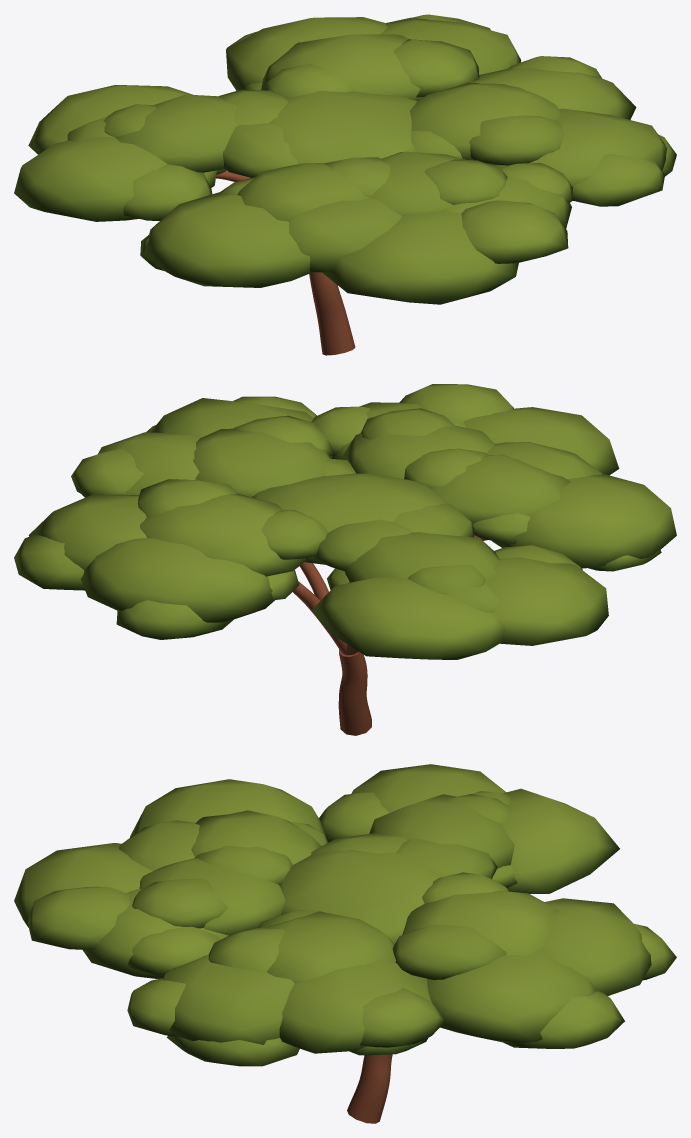
Rendered from acacia_wide.glb.
3 renders of one model, top to bottom at view 1: azimuth 30°, elevation 25°; view 2: azimuth 150°, elevation 25°; view 3: azimuth 270°, elevation 25°, orthographic. The views are drawn at different scales.
Parts seen in each view (by area): view 1: acacia_wide_leaves, acacia_wide_bark; view 2: acacia_wide_leaves, acacia_wide_bark; view 3: acacia_wide_leaves, acacia_wide_bark.
Boxes of the visible parts, left/top/right/bottom form: acacia_wide_leaves: left=14, top=14, right=676, bottom=304; acacia_wide_bark: left=216, top=171, right=355, bottom=355; acacia_wide_leaves: left=14, top=384, right=676, bottom=659; acacia_wide_bark: left=293, top=535, right=487, bottom=735; acacia_wide_leaves: left=14, top=764, right=676, bottom=1066; acacia_wide_bark: left=347, top=1054, right=392, bottom=1123.
Bounding box in the file's own units: 23.96 × 10.13 × 24.16.
